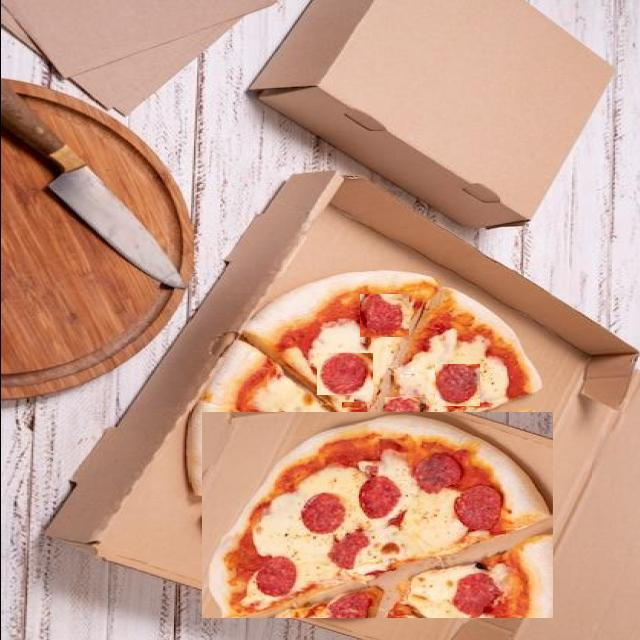pepperoni: (316, 353, 371, 395), (254, 498, 301, 544), (359, 294, 407, 337), (456, 434, 508, 472), (412, 497, 463, 535), (290, 538, 340, 576), (434, 364, 478, 406), (355, 512, 396, 555), (384, 397, 424, 438), (262, 415, 303, 455), (388, 460, 428, 499), (341, 402, 368, 420)
pizza: (188, 270, 546, 498), (201, 412, 552, 618)
